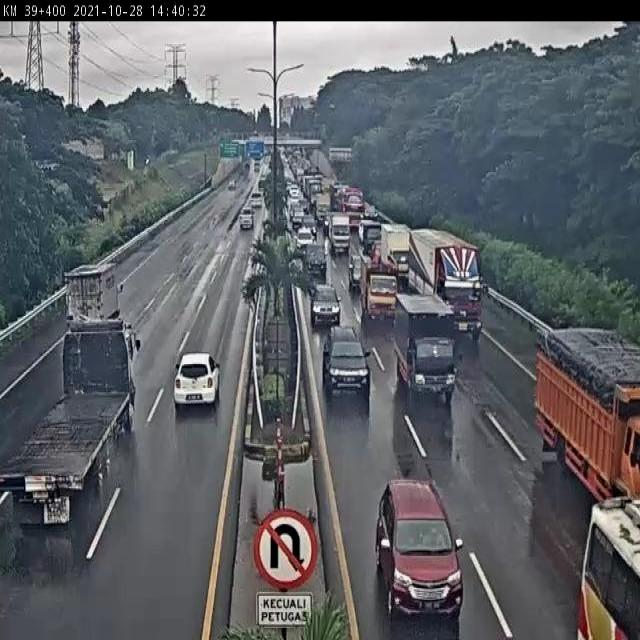Car: (375, 480, 465, 628), (321, 326, 370, 406), (174, 352, 220, 407), (308, 283, 342, 329), (304, 244, 328, 280), (296, 226, 316, 254), (238, 207, 254, 230), (290, 207, 304, 230), (250, 190, 262, 209), (283, 166, 293, 187), (228, 180, 236, 190)
Truck: (1, 278, 141, 557), (534, 330, 640, 514), (407, 228, 482, 340), (64, 261, 122, 328), (359, 252, 399, 324), (376, 223, 412, 288), (328, 212, 352, 255), (358, 219, 383, 256), (302, 173, 322, 204), (331, 182, 348, 201), (320, 208, 331, 230), (262, 159, 273, 181), (283, 146, 298, 162), (296, 196, 309, 214), (280, 150, 290, 172), (295, 166, 304, 182), (259, 177, 267, 193), (253, 159, 260, 173), (243, 160, 250, 170)
